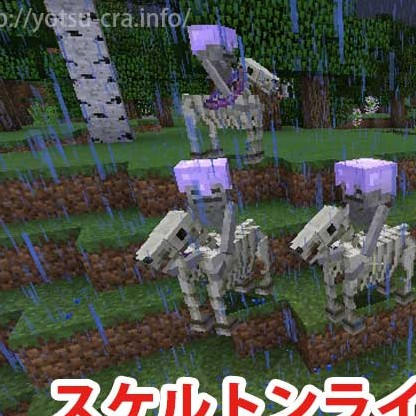skeleton: (170, 159, 249, 224)
